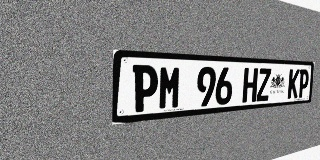6: (215, 67, 234, 105)
9: (196, 66, 216, 107)
H: (242, 68, 258, 103)
K: (287, 69, 300, 99)
M: (158, 65, 182, 110)
P: (132, 65, 158, 113), (298, 69, 309, 98)
Z: (256, 68, 271, 102)
